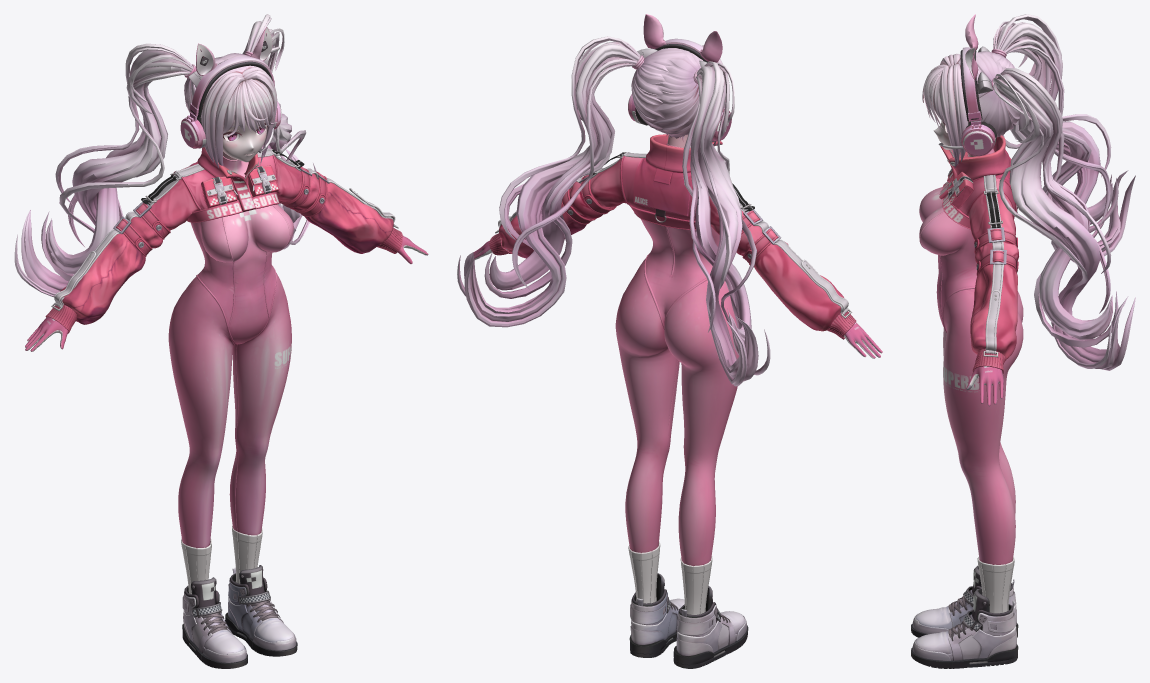
Rendered from Alice_Relative.fbx.
3 renders of one model, left to right at view 1: azimuth 30°, elevation 25°; view 2: azimuth 150°, elevation 25°; view 3: azimuth 270°, elevation 25°, orthographic. The views are drawn at different scales.
Visible parts, largest first — view 1: alice-Apose_mesh; view 2: alice-Apose_mesh; view 3: alice-Apose_mesh.
Boxes of the visible parts, x1,y1,x2,y2 form: alice-Apose_mesh: [14, 14, 428, 668]; alice-Apose_mesh: [457, 14, 882, 668]; alice-Apose_mesh: [911, 14, 1135, 668].
Size of the model in its own units: 112 by 162 by 53.48.
